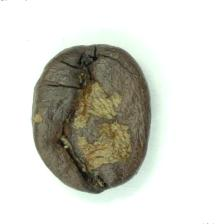NG: (53, 74, 136, 176)
